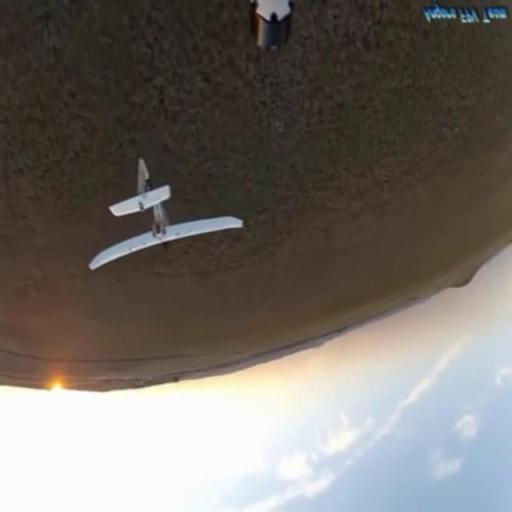uav: (87, 160, 245, 274)
